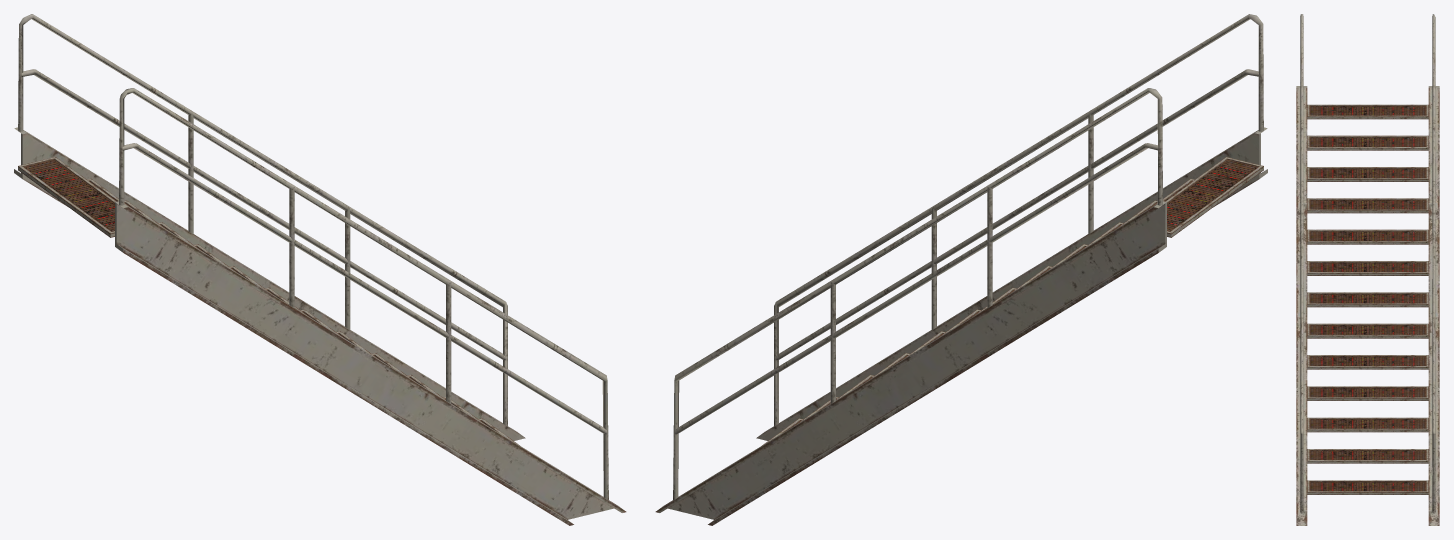
File: stairs_350.glb
The picture shows the model from 3 angles, left to right: view 1: azimuth 30°, elevation 25°; view 2: azimuth 150°, elevation 25°; view 3: azimuth 270°, elevation 25°; orthographic projection. The views are drawn at different scales.
Visible parts, largest first — view 1: stairs_350; view 2: stairs_350; view 3: stairs_350.
Boxes of the visible parts, x1=… form: stairs_350: x1=14, y1=14, x2=626, y2=525; stairs_350: x1=655, y1=14, x2=1267, y2=525; stairs_350: x1=1296, y1=14, x2=1439, y2=525.
Size of the model in its own units: 4.36 by 4.43 by 1.63.
Materials: 2 (2 with a texture image).
